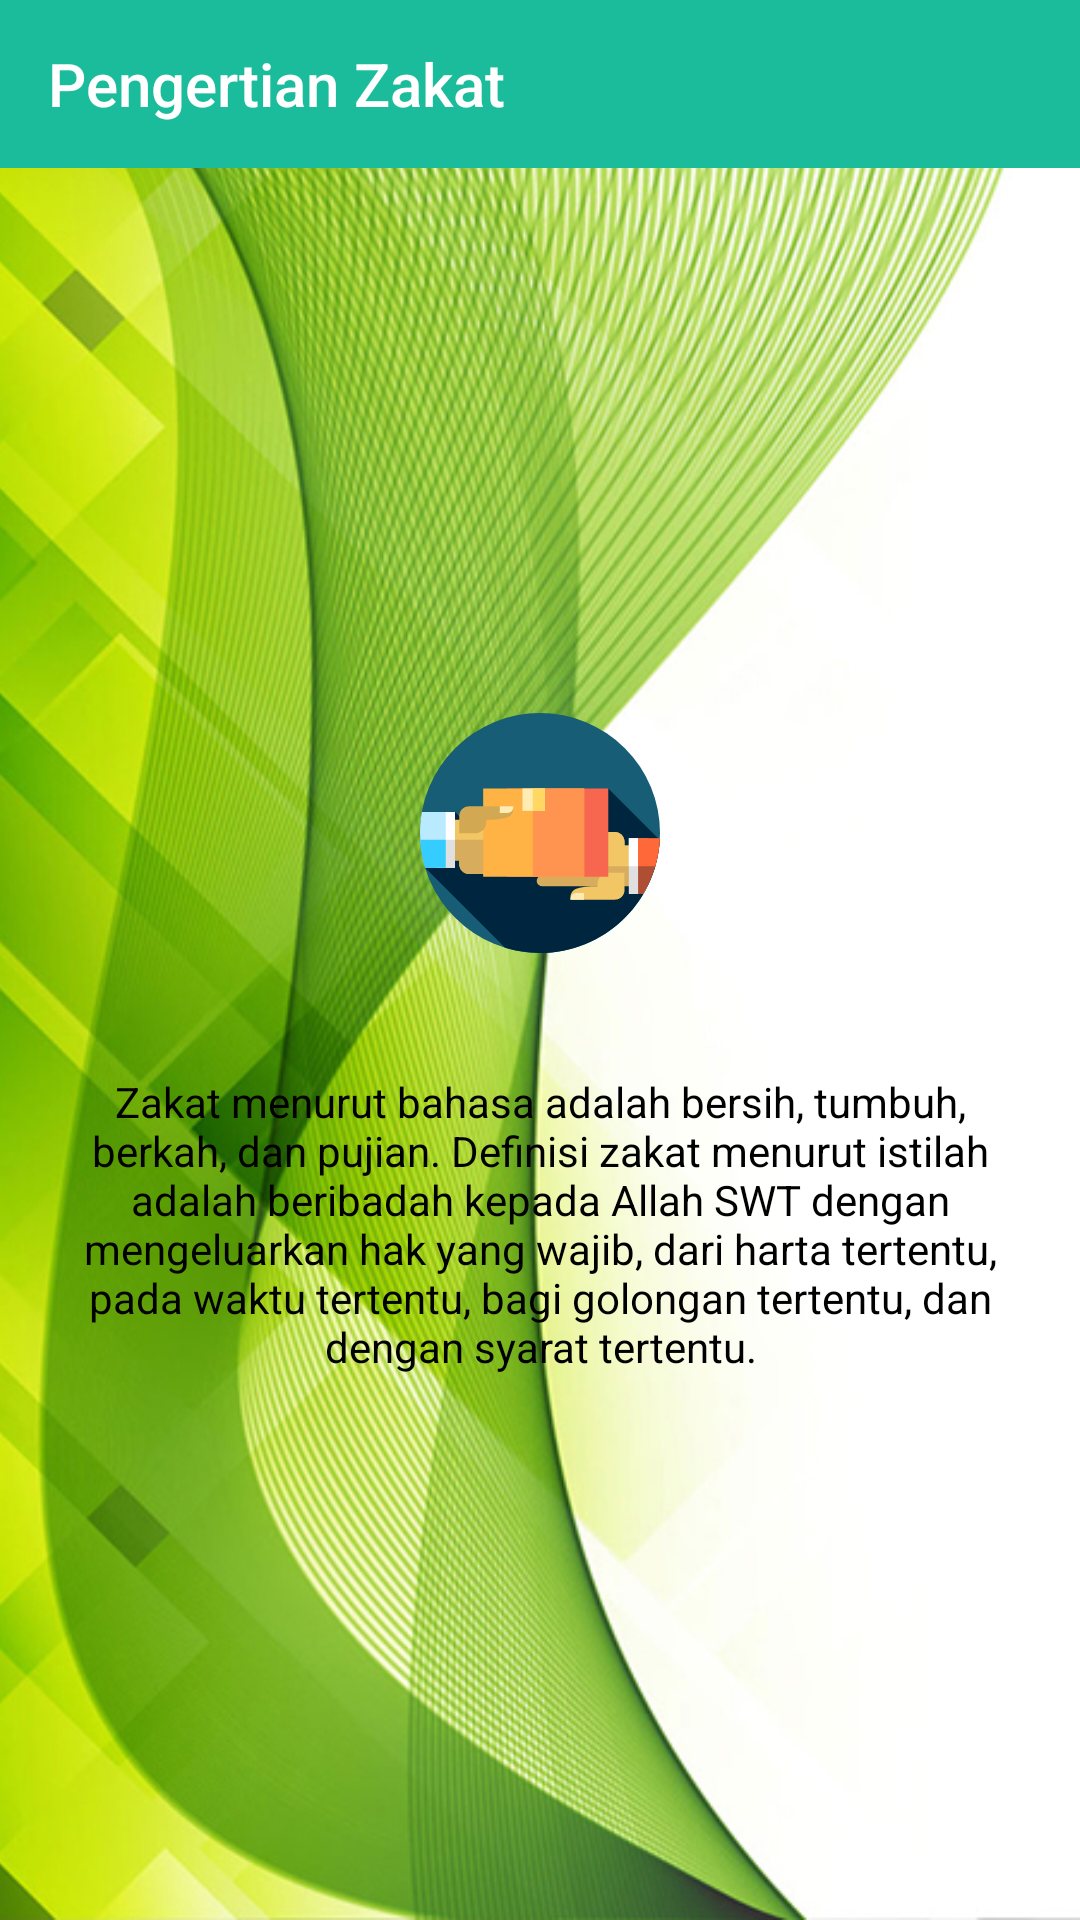

Screen size 1080*1920. Icon name, then its center in pixels as (x=x, y=y):
give: (x=540, y=833)
